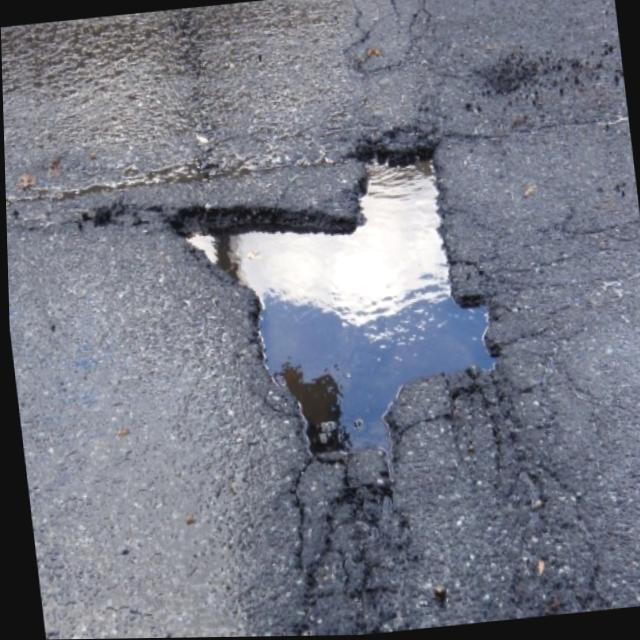Pothole: (162, 152, 489, 473)
